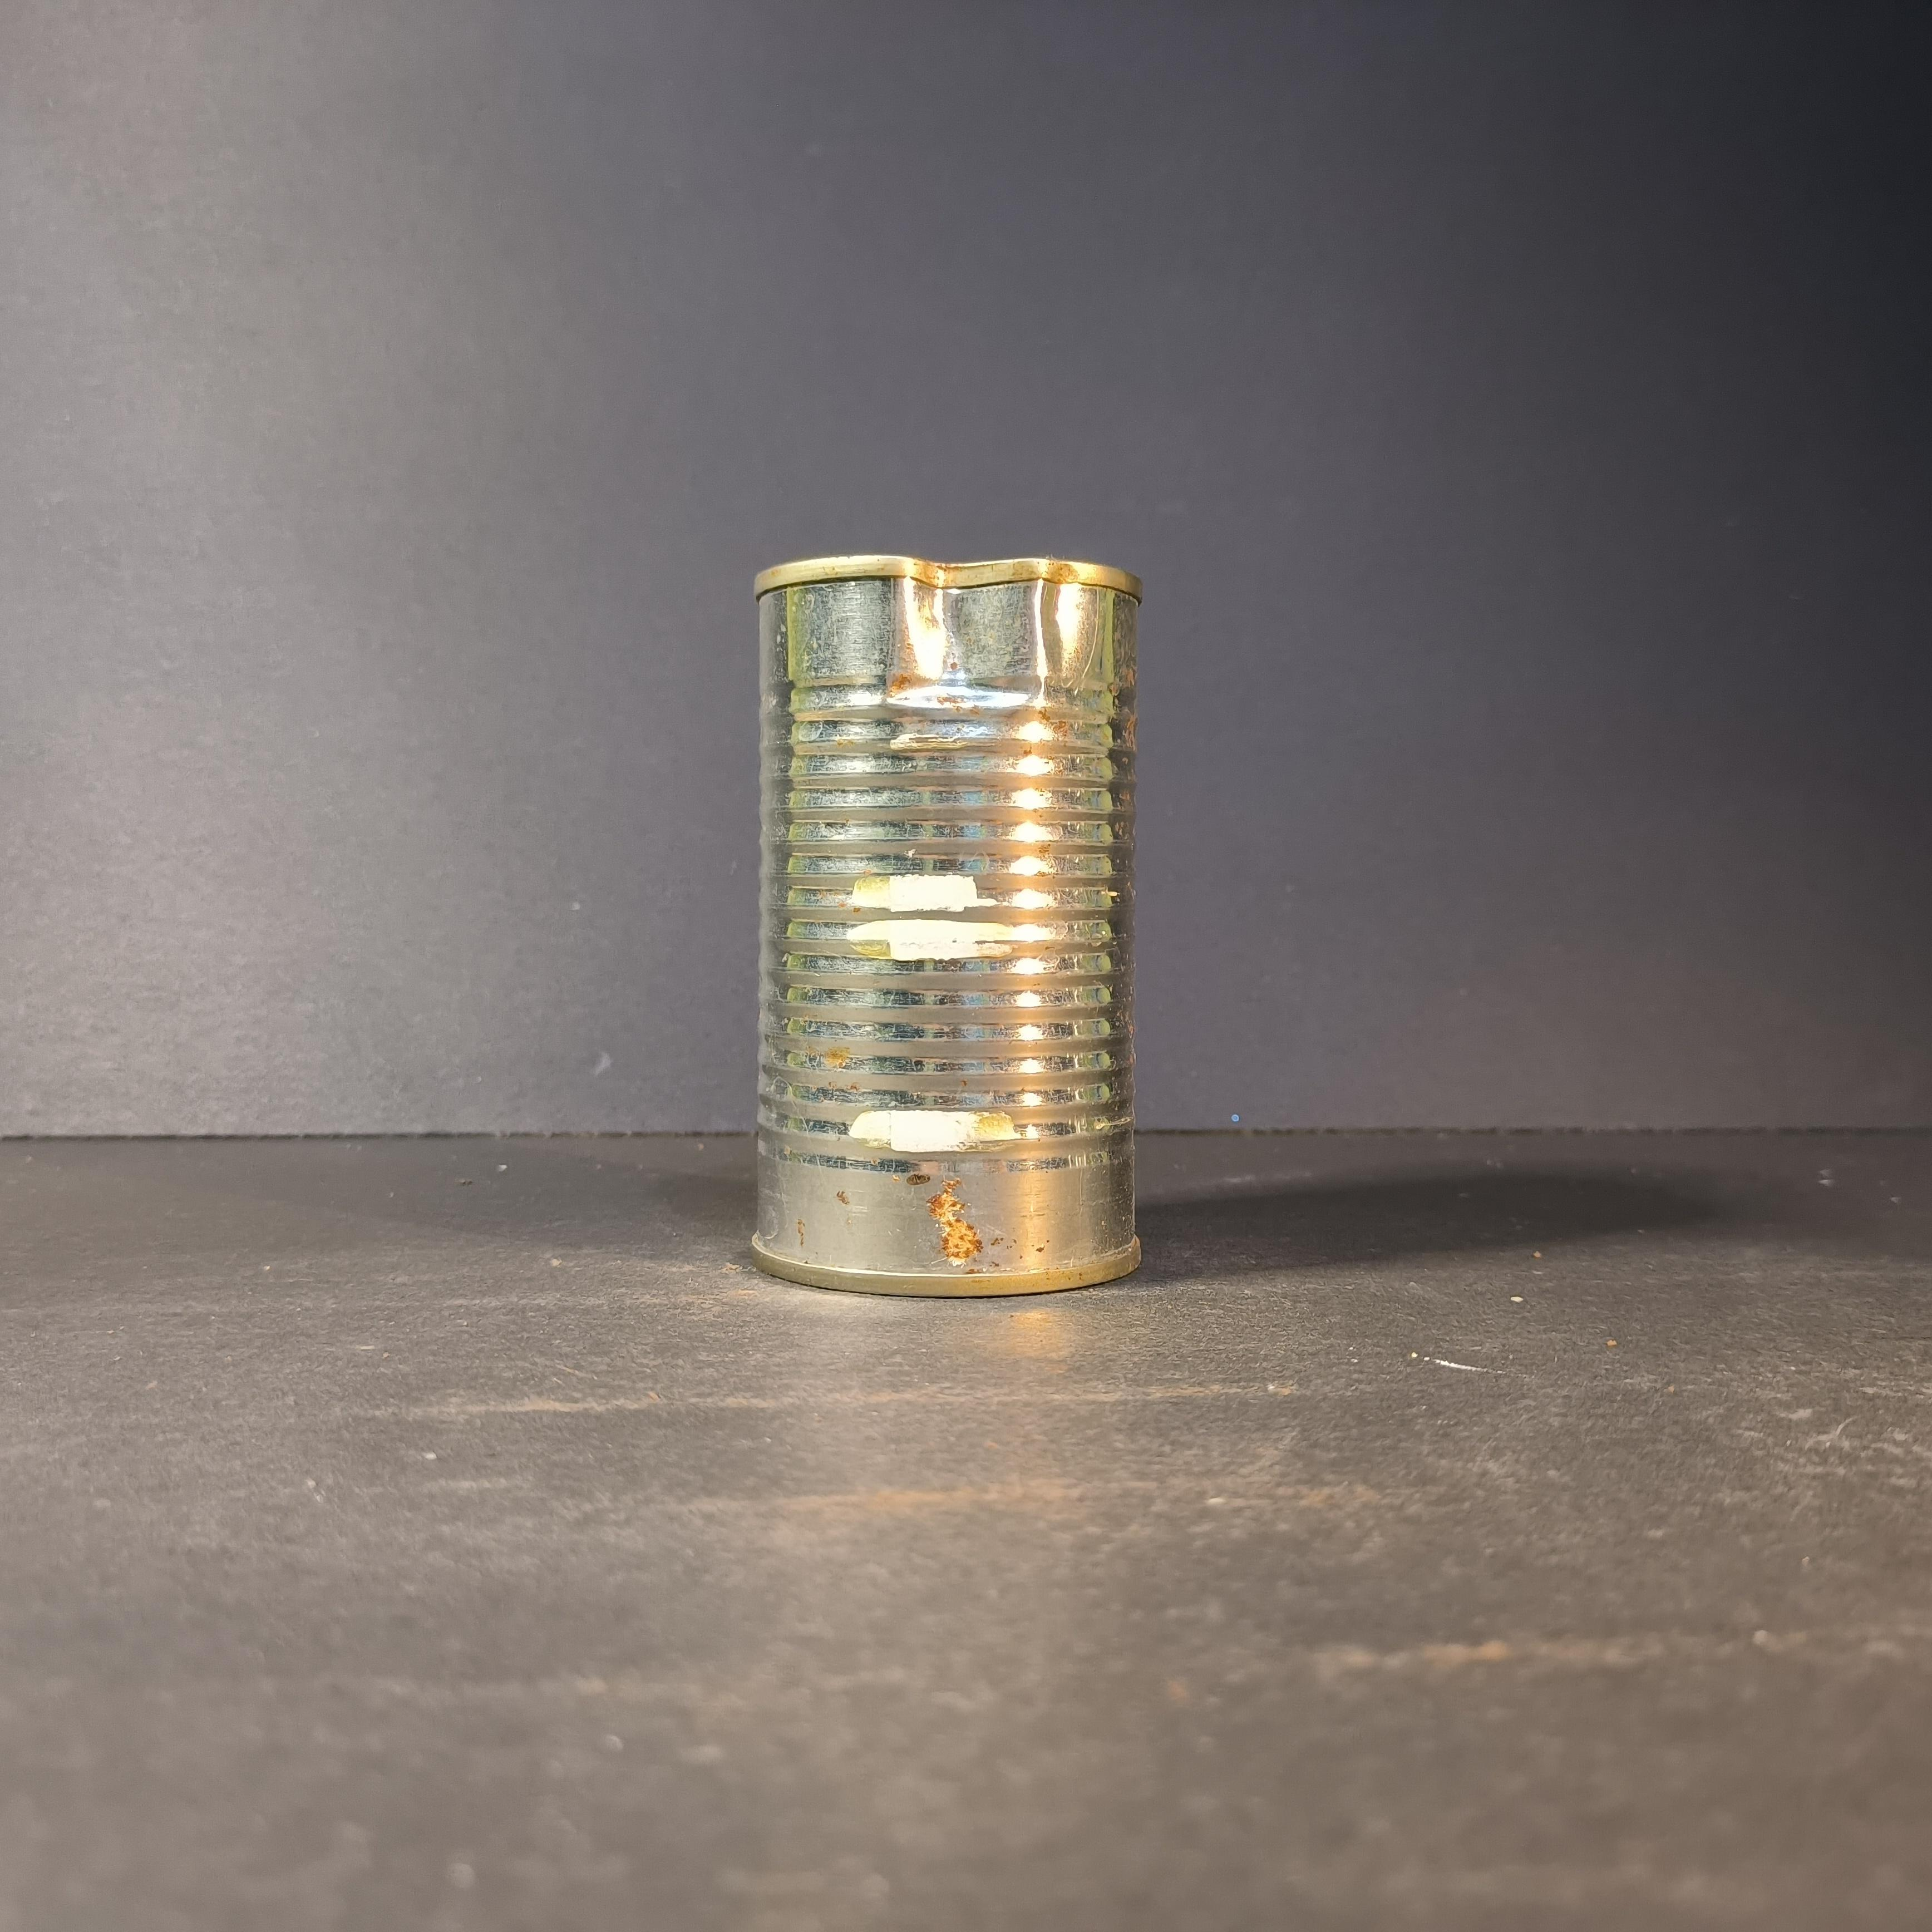Dented: (732, 524, 1168, 1306)
